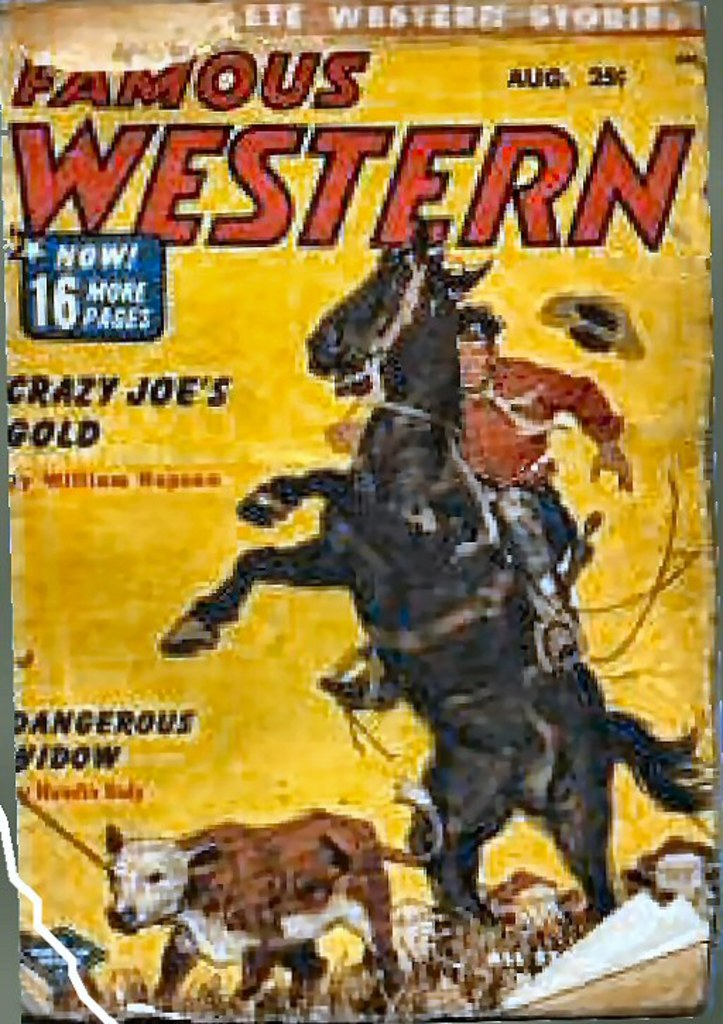Animal: (159, 219, 715, 924)
